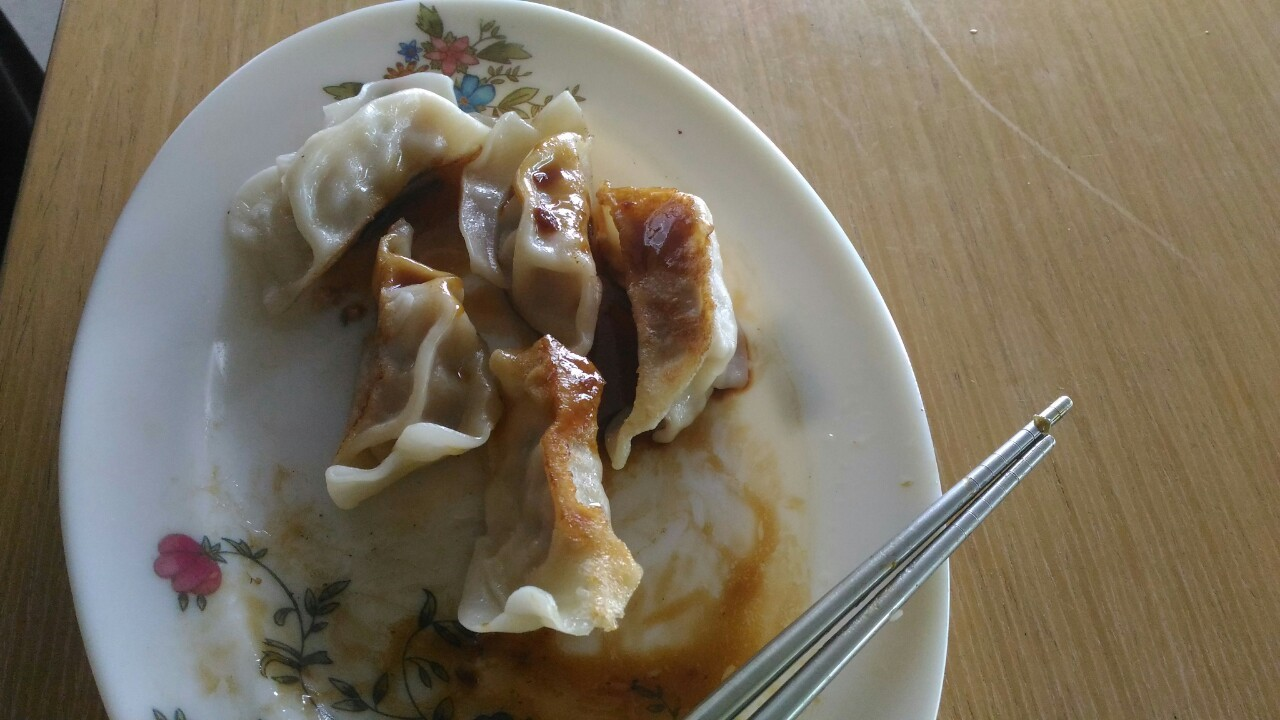fried_dumplings: (220, 72, 748, 639)
